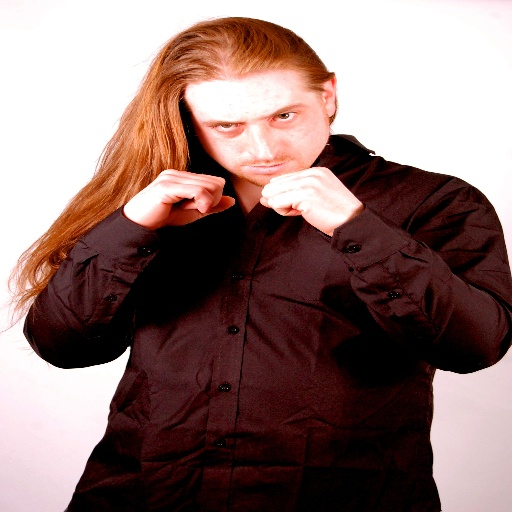hand: (257, 165, 366, 234), (148, 163, 235, 216)
